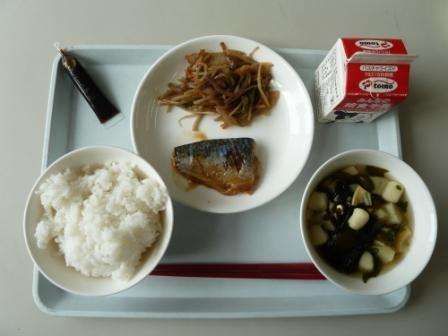Fish: (160, 129, 274, 209)
Milk: (311, 28, 418, 131)
Rice: (28, 152, 170, 297)
Soups: (302, 150, 435, 288)
salad with sauce: (159, 44, 273, 129)
